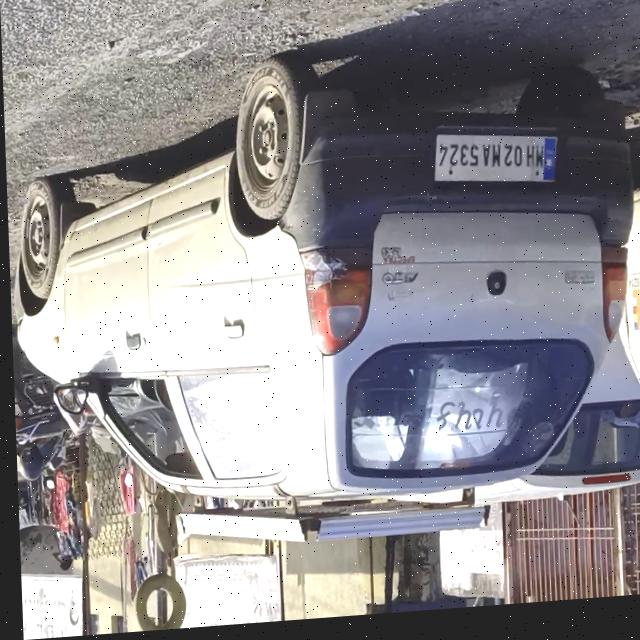plate: (431, 136, 561, 194)
